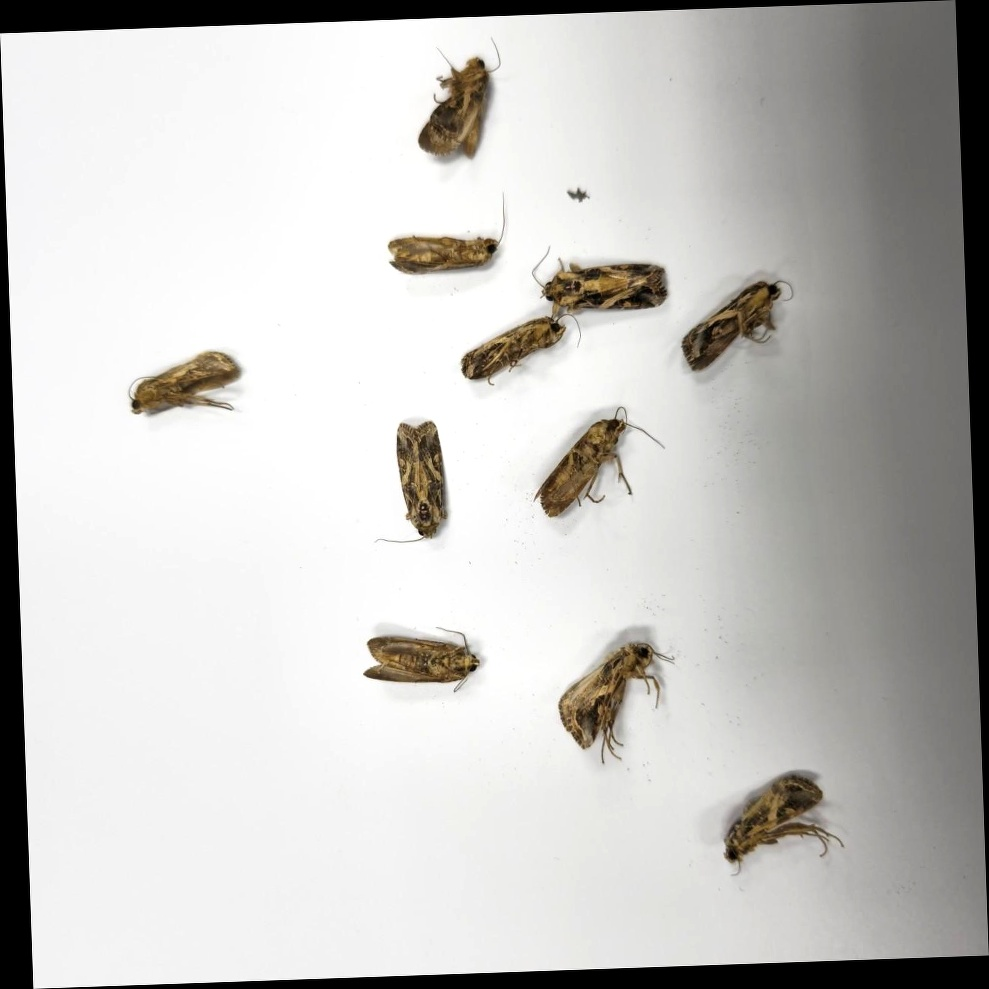Spodoptera litura: (557, 641, 677, 764), (532, 407, 666, 516), (722, 774, 846, 875), (415, 38, 503, 161), (679, 281, 795, 370), (532, 243, 669, 317), (388, 192, 506, 274), (372, 420, 447, 543), (460, 314, 582, 385), (363, 626, 481, 694), (127, 351, 241, 414)
